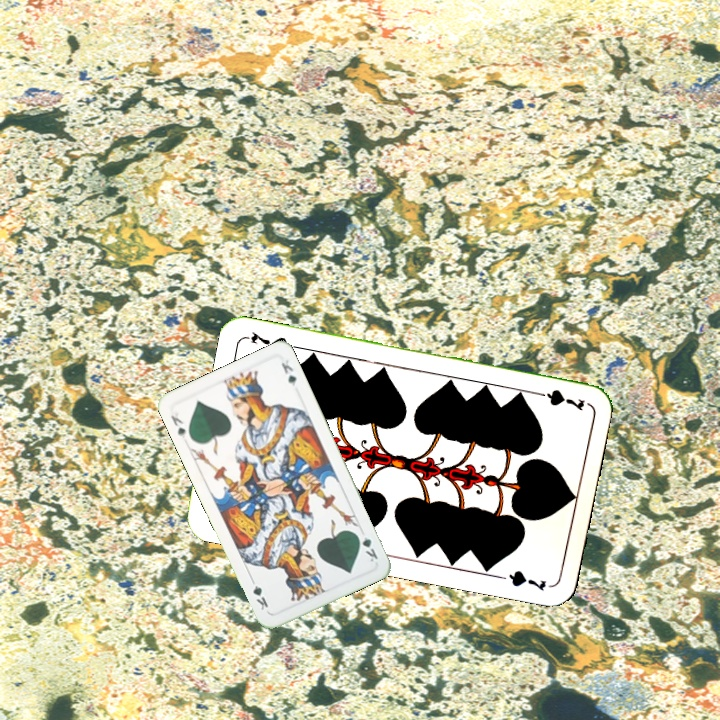G7: (528, 385, 587, 414)
GK: (352, 529, 380, 564), (167, 408, 189, 441)
